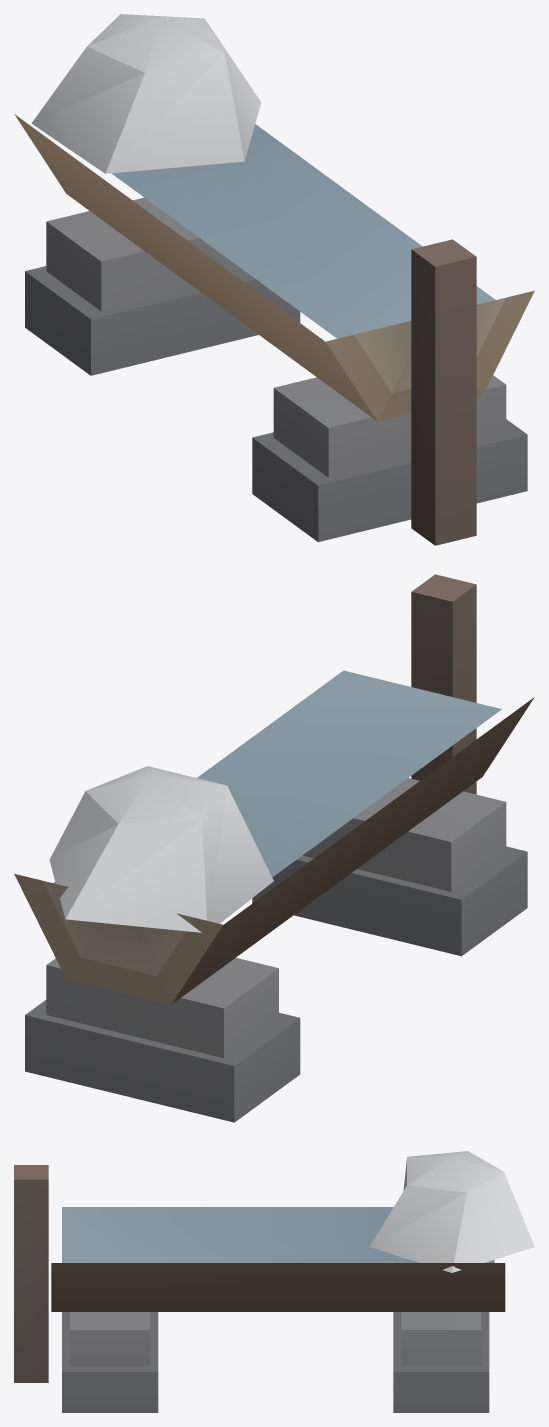
The model's file is trough.lod2.glb.
The picture shows the model from 3 angles, top to bottom: view 1: azimuth 30°, elevation 25°; view 2: azimuth 150°, elevation 25°; view 3: azimuth 270°, elevation 25°; orthographic projection. The views are drawn at different scales.
Size of the model in its own units: 0.6638 by 0.91 by 1.95.
